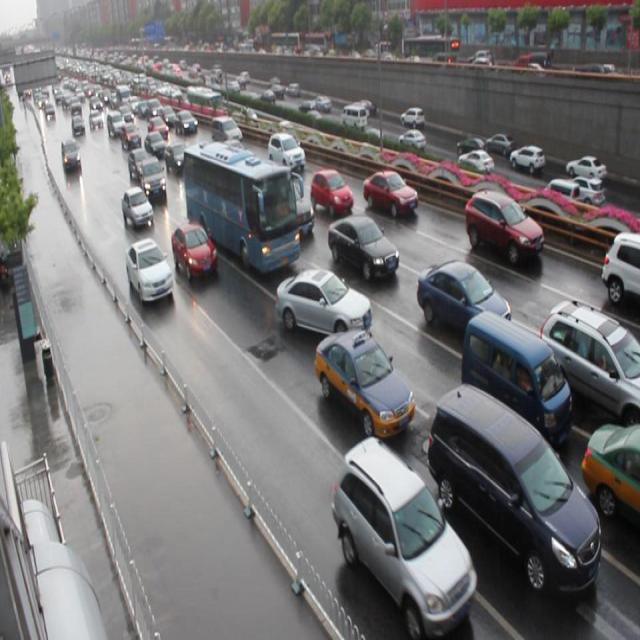car: (331, 434, 476, 634), (536, 296, 640, 431), (310, 322, 409, 435), (415, 259, 511, 336), (274, 266, 371, 340), (580, 420, 640, 530), (463, 189, 544, 263), (326, 213, 400, 281), (125, 236, 173, 304), (171, 218, 220, 282), (600, 228, 640, 302), (363, 168, 418, 218), (310, 167, 354, 215), (266, 130, 306, 173), (121, 184, 155, 230), (139, 156, 168, 200)
truck: (421, 380, 594, 586), (460, 310, 570, 437), (211, 112, 242, 144)
van: (178, 134, 294, 268)
